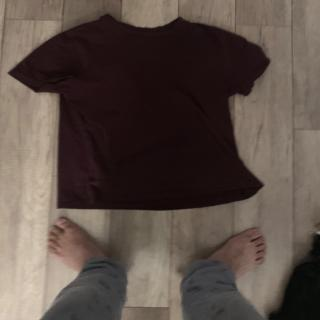Maroon T-Shirt: (2, 17, 272, 211)
